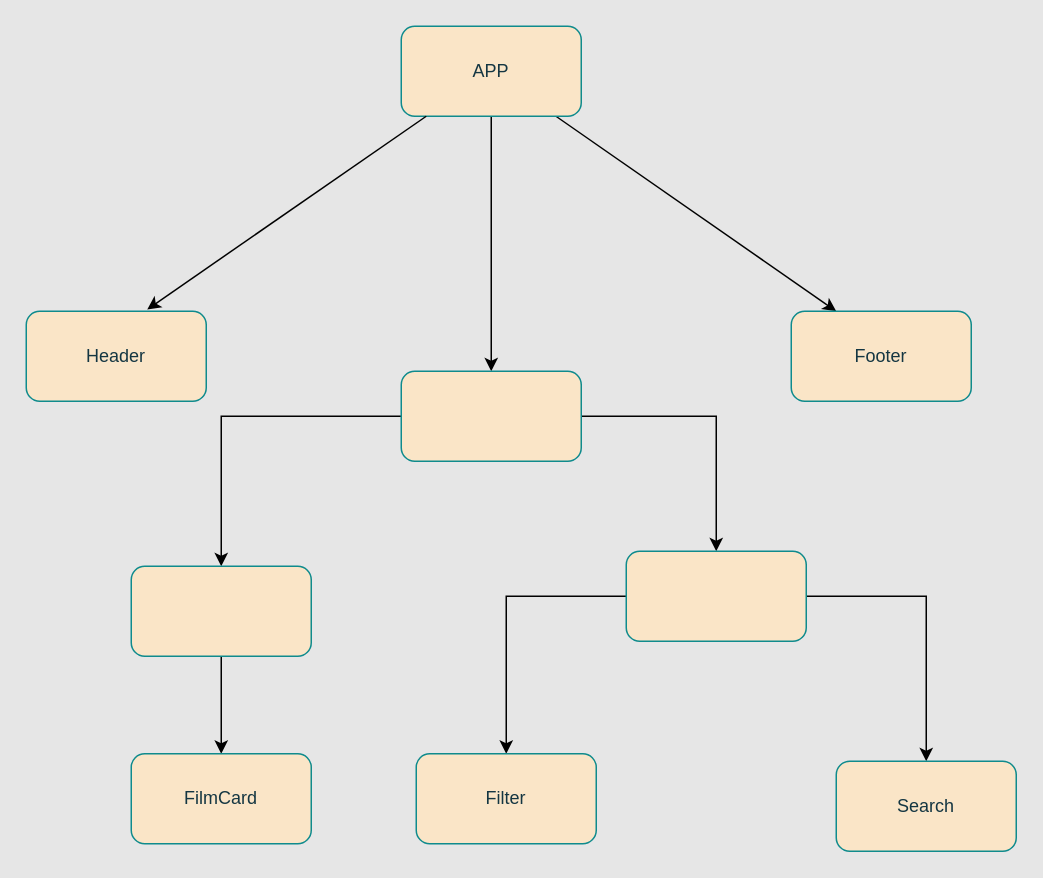
Some shapes in this 1043 by 878 pixel diagram are drawn without their labels. Here are the shapes that lost their labels. From the top down, the box of each, then its label:
(400, 370, 581, 461): Main (index.jsx)
(130, 565, 311, 656): FilmList
(625, 550, 806, 641): Controls (index.jsx)
